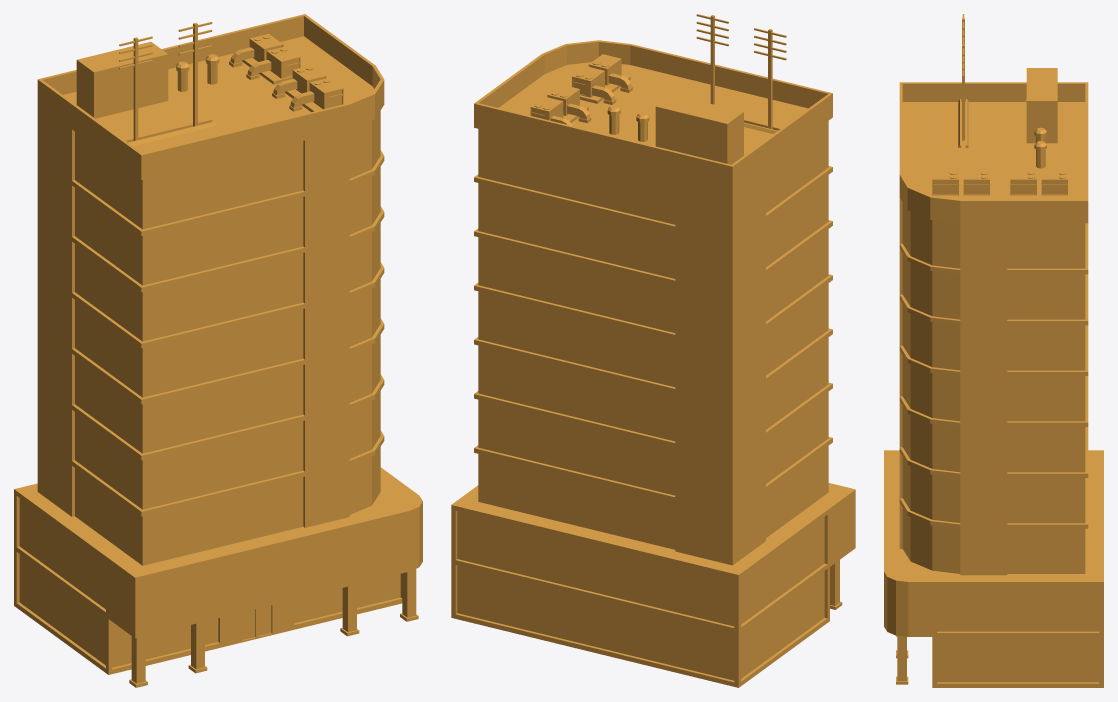
The model's file is building-office-rounded.fbx.
3 renders of one model, left to right at view 1: azimuth 30°, elevation 25°; view 2: azimuth 150°, elevation 25°; view 3: azimuth 270°, elevation 25°, orthographic. The views are drawn at different scales.
Visible parts, largest first — view 1: building-office-rounded; view 2: building-office-rounded; view 3: building-office-rounded.
Part boxes in pixels (x1,y1,x2,y2): building-office-rounded: (14, 14, 422, 687); building-office-rounded: (451, 14, 855, 687); building-office-rounded: (884, 14, 1103, 687).
Size of the model in its own units: 20 by 39.4 by 14.1.
